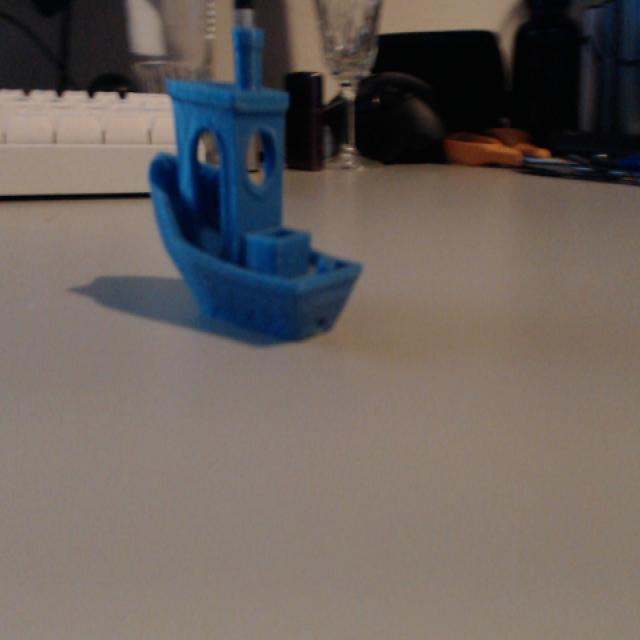benchy: (144, 21, 364, 344)
